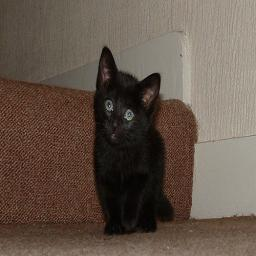catnose: (110, 116, 120, 130)
